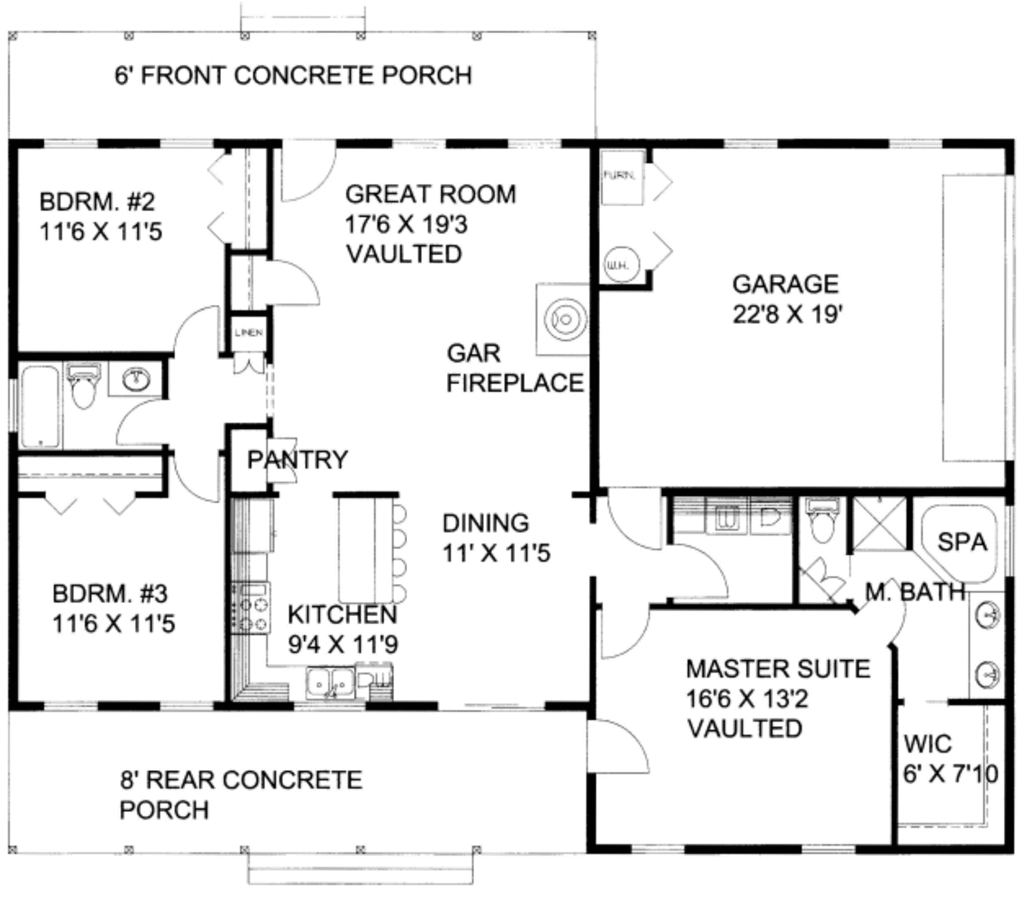door: (596, 480, 667, 554), (256, 247, 325, 314), (659, 542, 734, 602), (275, 136, 338, 207), (856, 569, 907, 643), (590, 603, 654, 661), (584, 722, 651, 769), (166, 439, 222, 495), (164, 307, 222, 359), (110, 402, 163, 447), (260, 437, 308, 485), (226, 350, 269, 381)
kitchen_bar: (317, 477, 425, 625)
large_sink: (52, 353, 106, 411), (796, 490, 841, 547)
small_sink: (969, 595, 1004, 698), (104, 357, 169, 398)
tub: (15, 358, 63, 454)
twin_sink: (293, 662, 366, 709)
window: (30, 129, 103, 157), (390, 129, 454, 159), (289, 695, 371, 713), (717, 131, 786, 151), (156, 133, 221, 153), (878, 133, 941, 153), (500, 136, 570, 153), (40, 694, 99, 714), (796, 840, 859, 858), (154, 699, 218, 714), (627, 843, 680, 855)
